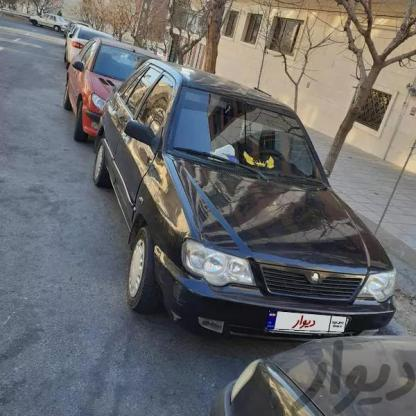Car: (92, 54, 393, 362), (204, 331, 416, 416), (60, 36, 156, 137), (63, 23, 110, 78), (31, 8, 70, 43)
